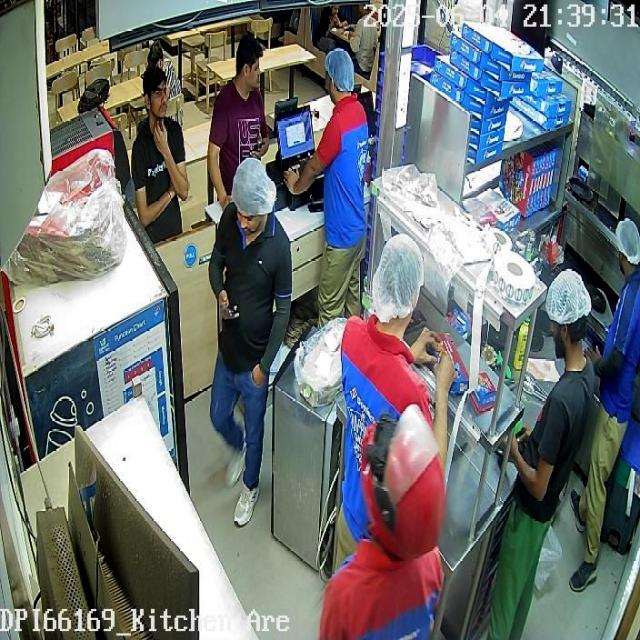helmet: (362, 399, 448, 561)
no_helmet: (372, 234, 425, 338), (545, 267, 591, 371), (231, 157, 277, 236), (234, 35, 263, 99), (615, 218, 639, 278), (143, 66, 167, 123)
